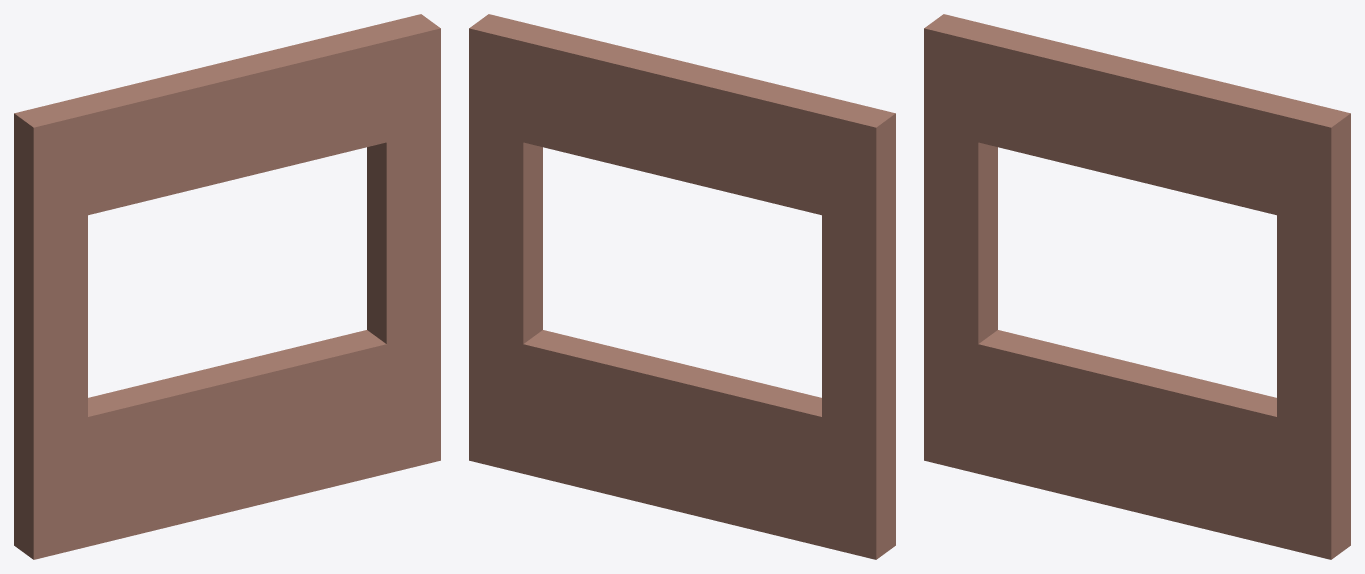
Rendered from iz2_window_basement.glb.
3 views of the same model, side by side, from view 1: azimuth 30°, elevation 25°; view 2: azimuth 150°, elevation 25°; view 3: azimuth 330°, elevation 25° (orthographic).
Parts seen in each view (by area): view 1: body; view 2: body; view 3: body.
Boxes of the visible parts, x1,y1,x2,y2 form: body: (14,14,440,559); body: (469,14,895,559); body: (924,14,1350,559).
Bounding box in the file's own units: 2.96 × 3 × 0.2469.
